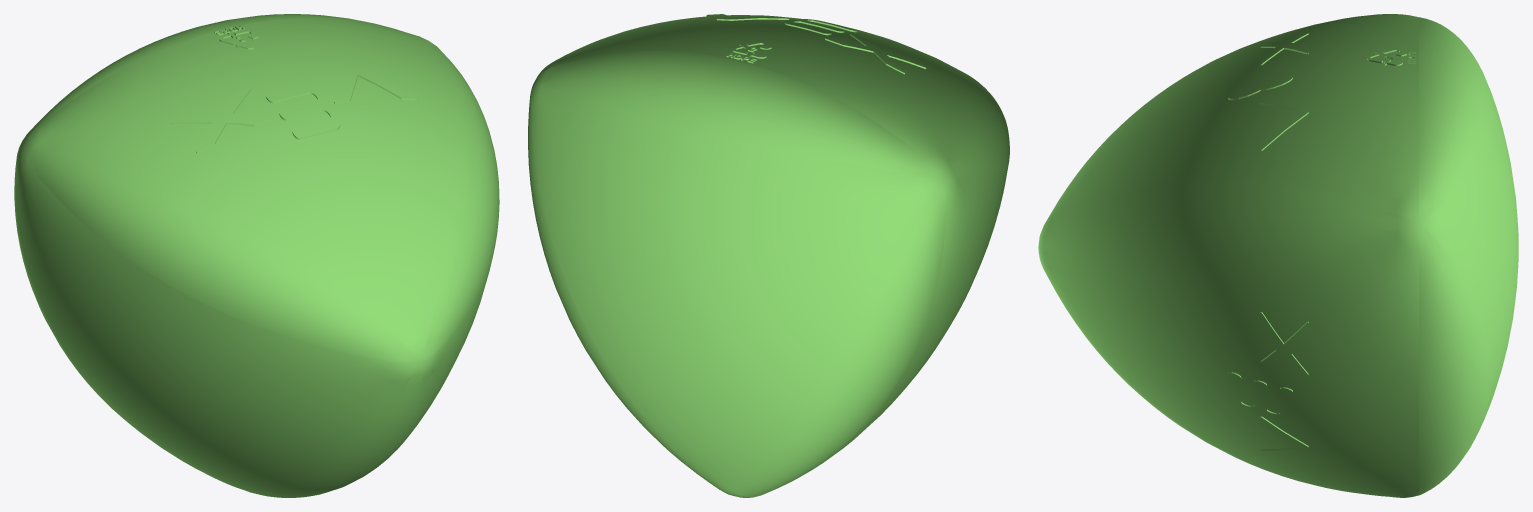
File: Triball-v1.glb
The picture shows the model from 3 angles, left to right: view 1: azimuth 30°, elevation 25°; view 2: azimuth 150°, elevation 25°; view 3: azimuth 270°, elevation 25°; orthographic projection.
Parts seen in each view (by area): view 1: 276-8354-001 Rev5_12-8 Update; view 2: 276-8354-001 Rev5_12-8 Update; view 3: 276-8354-001 Rev5_12-8 Update.
Part boxes in pixels (bbox=[...]): 276-8354-001 Rev5_12-8 Update: bbox=[14, 14, 499, 497]; 276-8354-001 Rev5_12-8 Update: bbox=[528, 14, 1009, 497]; 276-8354-001 Rev5_12-8 Update: bbox=[1038, 14, 1518, 497].
Bounding box in the file's own units: 15.84 × 15.77 × 15.7.
